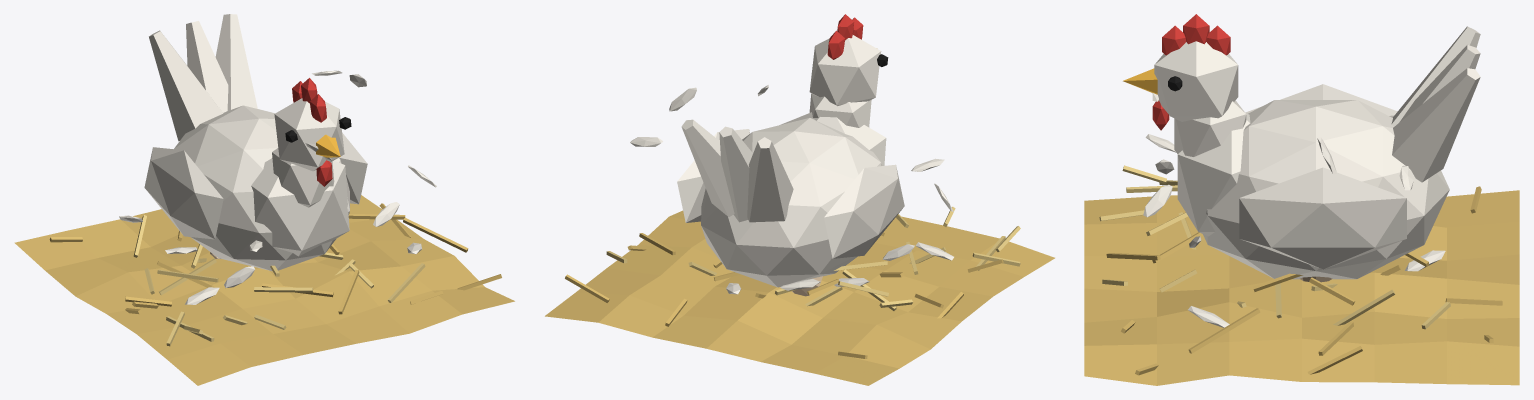
The model's file is sm_cargo_content_hen.glb.
3 renders of one model, left to right at view 1: azimuth 30°, elevation 25°; view 2: azimuth 150°, elevation 25°; view 3: azimuth 270°, elevation 25°, orthographic. The views are drawn at different scales.
Visible parts, largest first — view 1: Filler, Intact, Damage, Ruined; view 2: Filler, Intact, Damage, Ruined; view 3: Filler, Intact, Damage, Ruined.
Boxes of the visible parts, x1,y1,x2,y2 form: Filler: (14,195,514,385); Intact: (144,14,367,271); Damage: (119,70,436,287); Ruined: (165,242,421,304); Filler: (545,206,1054,385); Intact: (677,14,904,287); Damage: (630,85,953,260); Ruined: (726,242,953,296); Filler: (1084,165,1519,385); Intact: (1123,14,1480,279); Damage: (1143,93,1413,247); Ruined: (1188,250,1445,327).
Bounding box in the file's own units: 0.6492 × 0.4594 × 0.618.
